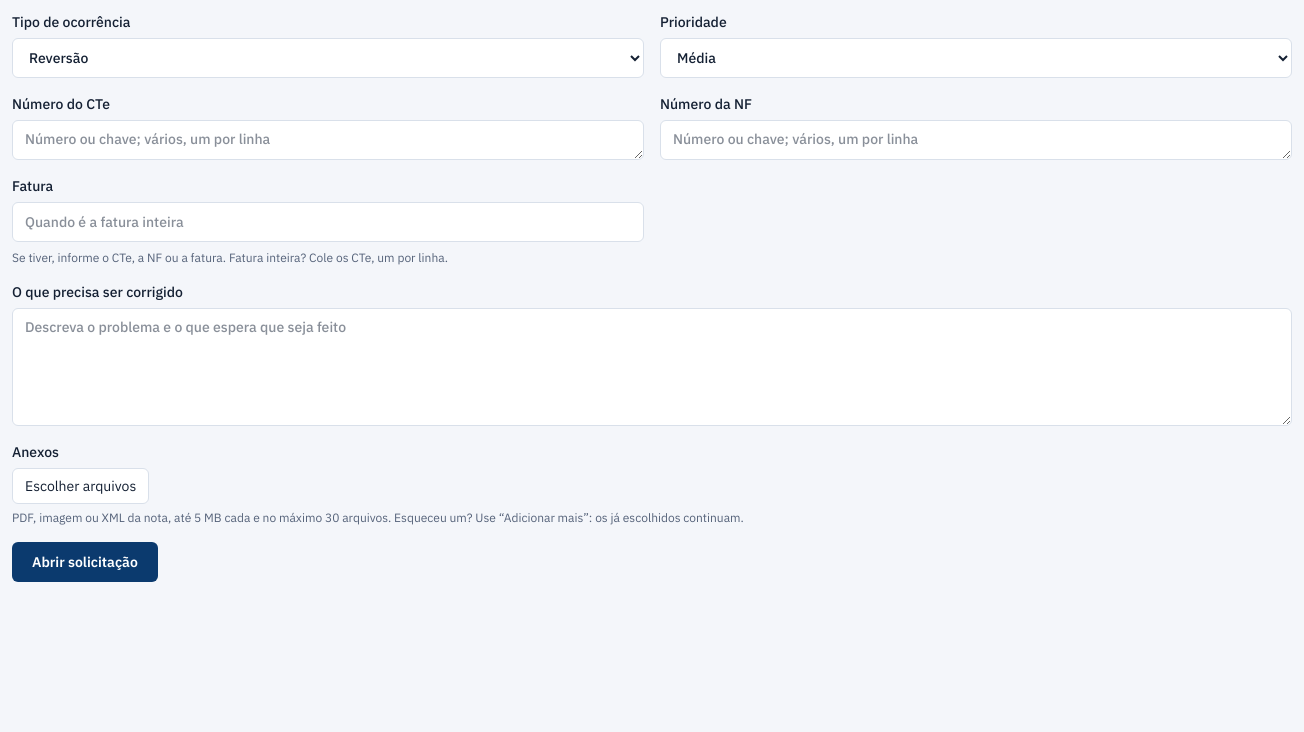
Scenario: FormularioDeAbertura › formulário configurado pela empresa › anexo obrigatório: não abre sem arquivo
Expected: the file field "Anexos" is shown, [12, 443, 59, 461]
Type "12345" into the text box labelled "Número do CTe". click: point(328, 140)
box: [12, 120, 644, 160]
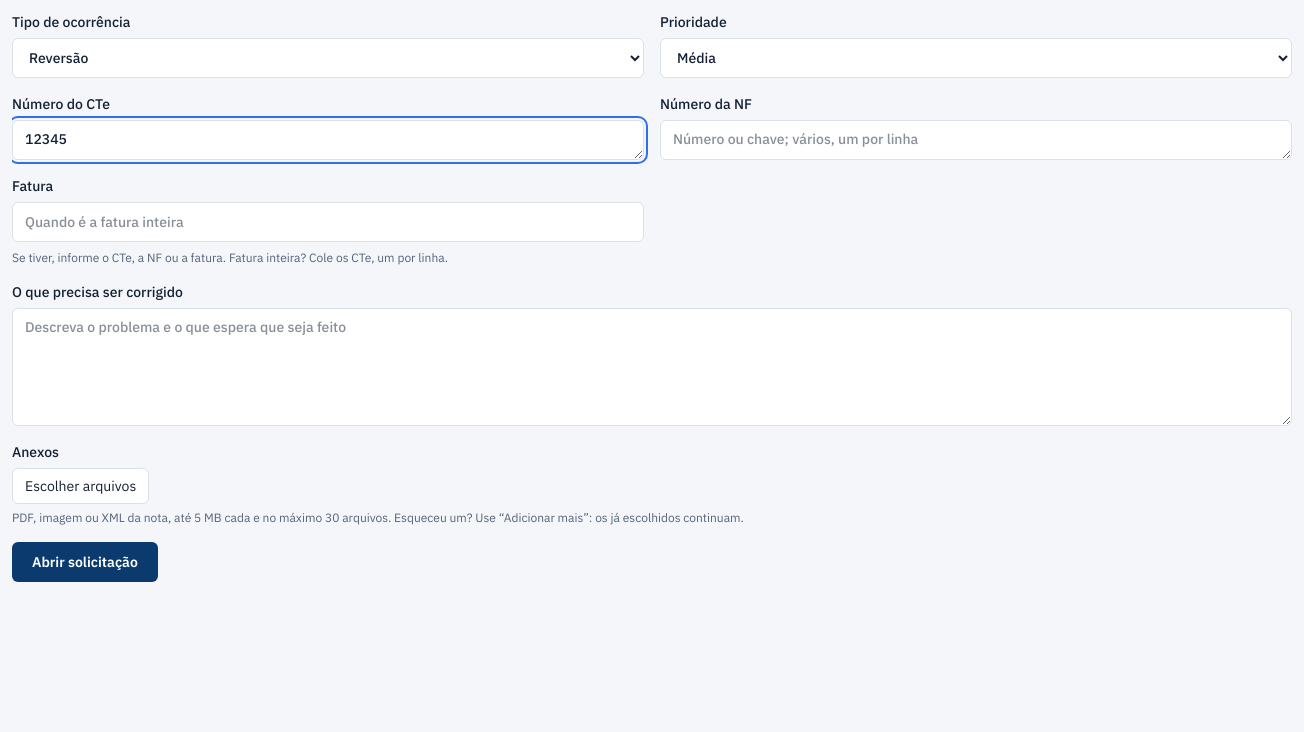
Type "Mercadoria recusada, emitir reversão." into the text box labelled "O que precisa ser corrigido". click: point(652, 367)
box: [12, 308, 1292, 426]
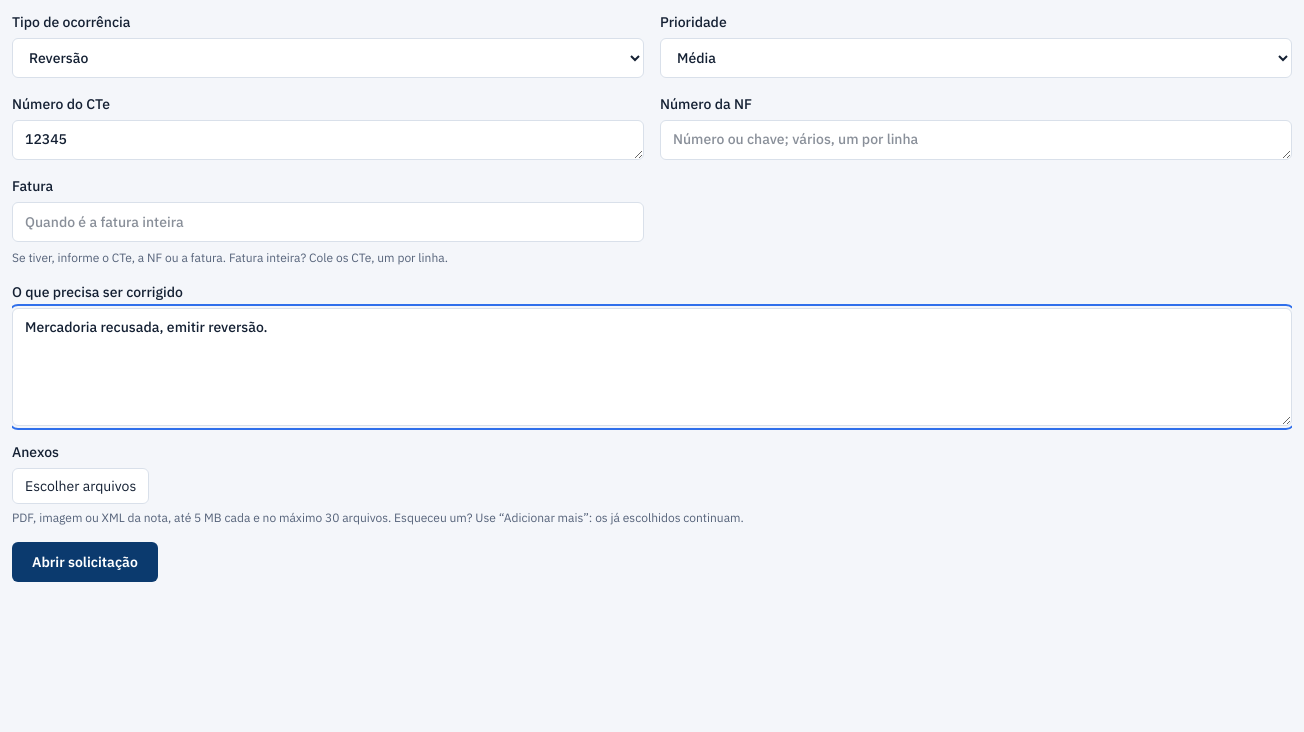
Click the button "Abrir solicitação". click: point(85, 562)
box: [12, 542, 158, 582]
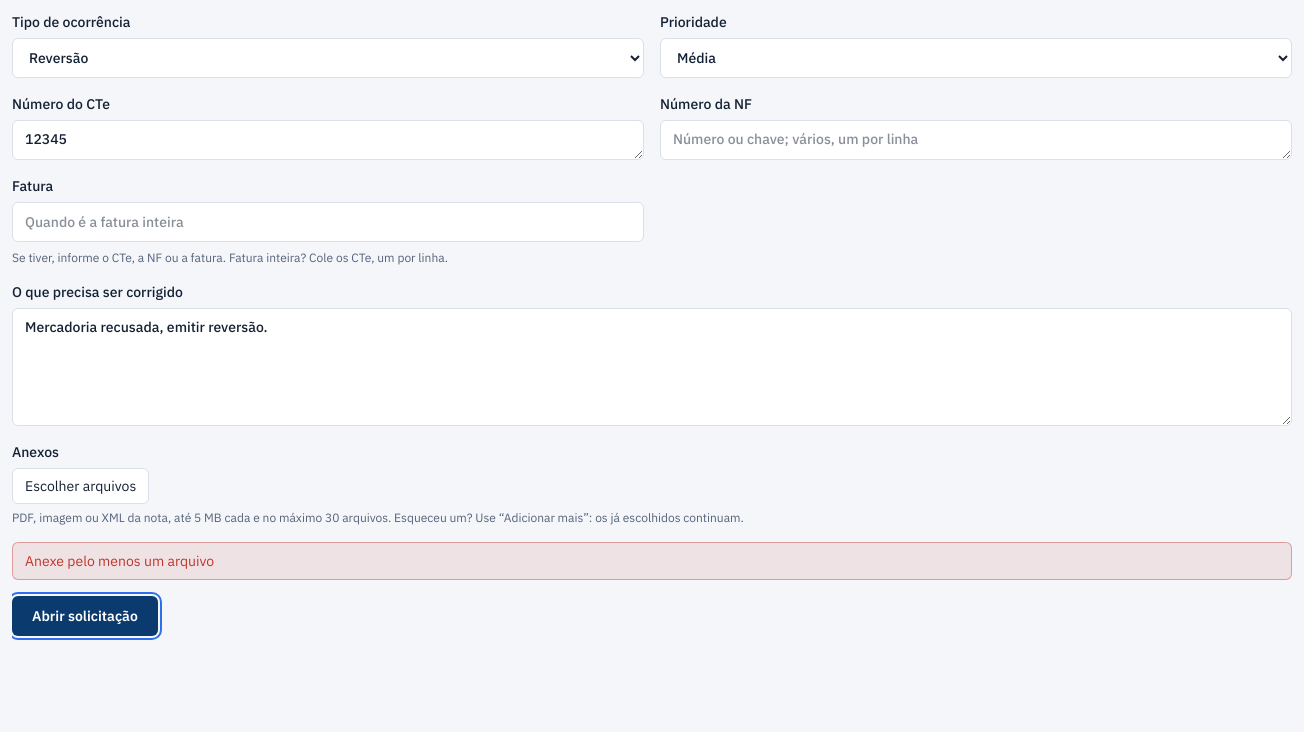
Expected: the text "Anexe pelo menos um arquivo" is shown, [12, 542, 1292, 580]
